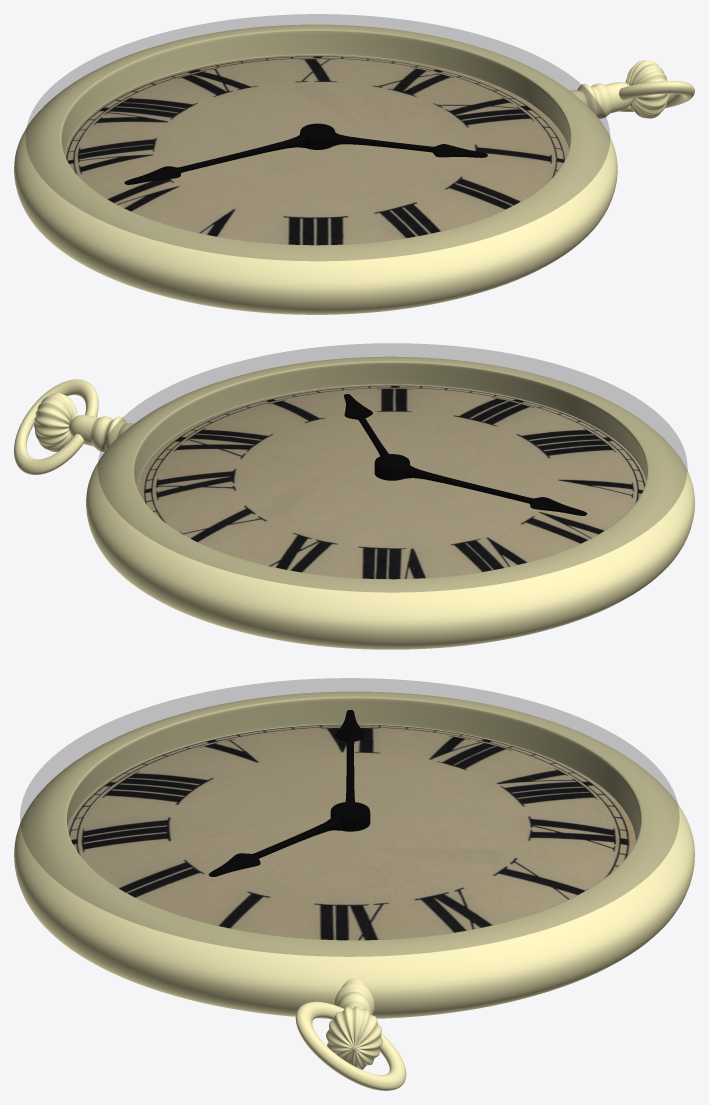
Rendered from reloj.glb.
3 renders of one model, top to bottom at view 1: azimuth 30°, elevation 25°; view 2: azimuth 150°, elevation 25°; view 3: azimuth 270°, elevation 25°, orthographic. The views are drawn at different scales.
Visible parts, largest first — view 1: Sphere_3; view 2: Sphere_3; view 3: Sphere_3.
Boxes of the visible parts, x1=… form: Sphere_3: x1=14, y1=14, x2=694, y2=314; Sphere_3: x1=14, y1=343, x2=694, y2=649; Sphere_3: x1=14, y1=678, x2=694, y2=1090.
Size of the model in its own units: 0.1273 by 0.0218 by 0.1056.
Materials: 4 (1 with a texture image).
